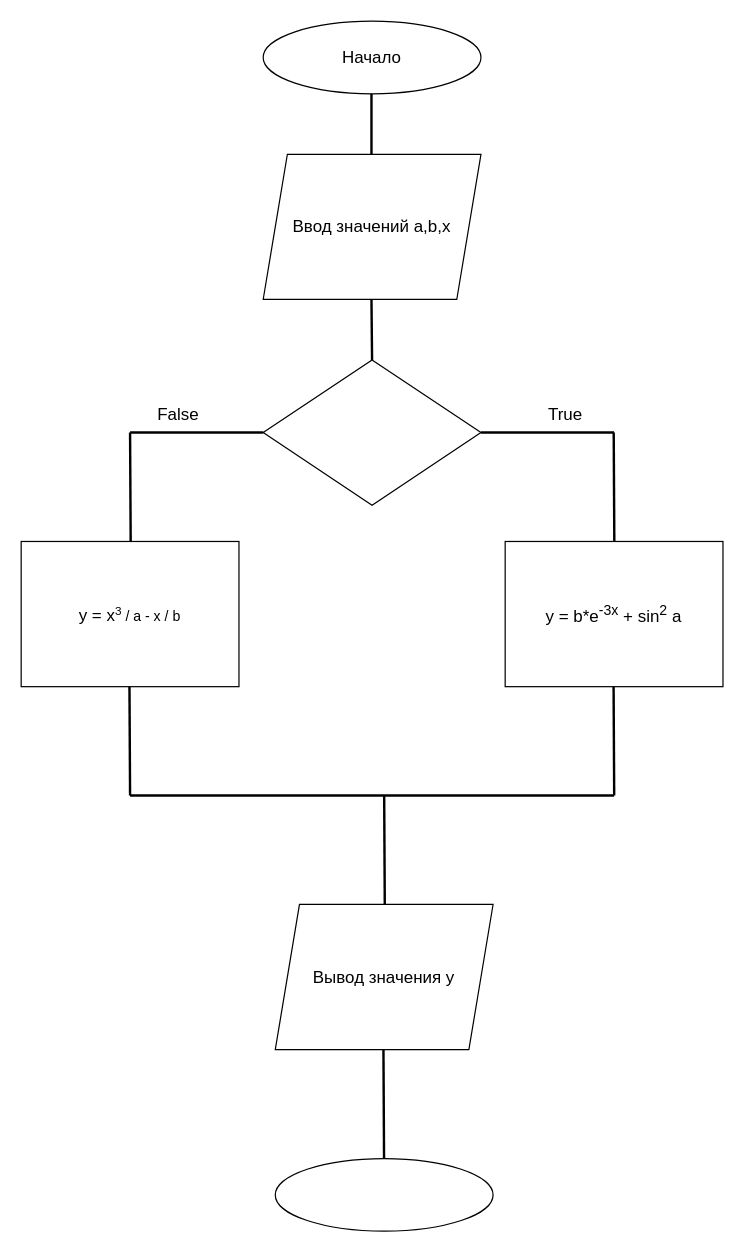
Image size: 744x1252. Some labels were removed from this diagram. The shapes that lost their labels are listed below. From the top down, each one's box as (x1, y1, x2, y2) in pixels, then its label:
(262, 359, 481, 505): a*b < 2*x
(274, 1157, 493, 1231): Конец
